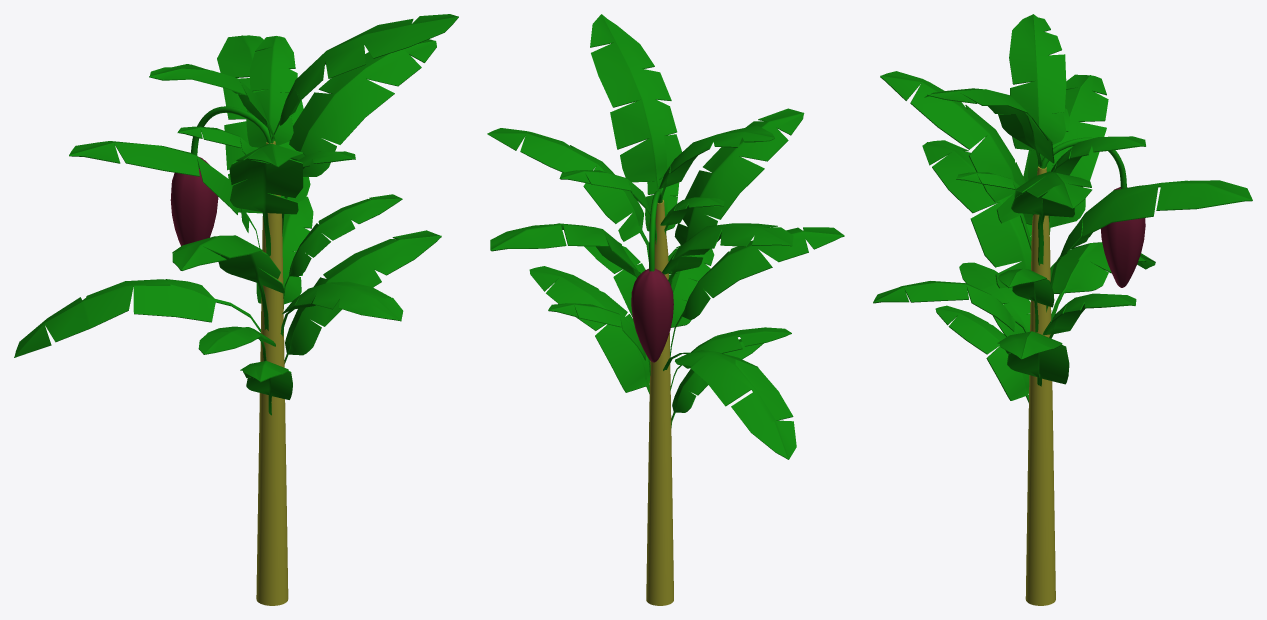
File: BananaTreeFruit.fbx
The picture shows the model from 3 angles, left to right: view 1: azimuth 30°, elevation 25°; view 2: azimuth 150°, elevation 25°; view 3: azimuth 270°, elevation 25°; orthographic projection. The views are drawn at different scales.
Parts seen in each view (by area): view 1: Leaves, Trunk, Banana; view 2: Leaves, Trunk, Banana; view 3: Leaves, Trunk, Banana.
Part boxes in pixels (x1,y1,x2,y2): Leaves: [14, 14, 458, 415]; Trunk: [256, 141, 288, 605]; Banana: [170, 106, 273, 245]; Leaves: [487, 14, 844, 459]; Trunk: [646, 200, 673, 605]; Banana: [631, 190, 673, 362]; Leaves: [873, 14, 1252, 402]; Trunk: [1025, 166, 1055, 605]; Banana: [1039, 137, 1145, 287].
Bounding box in the file's own units: 269 × 399 × 244.
